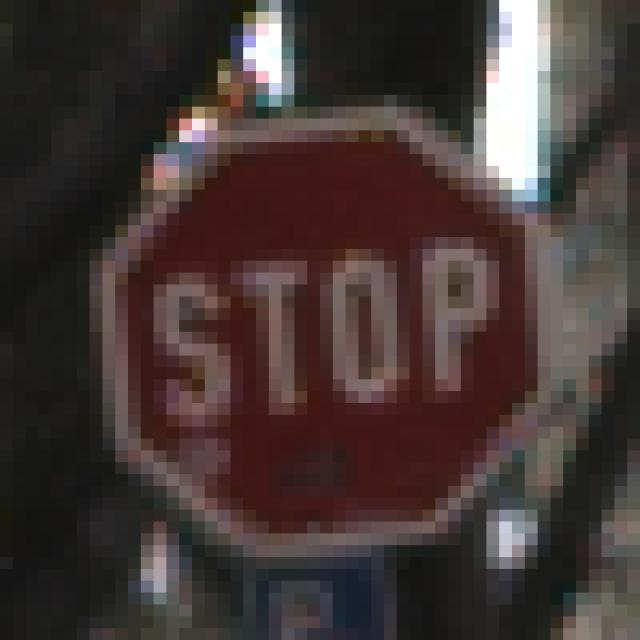STOP: (65, 72, 577, 582)
